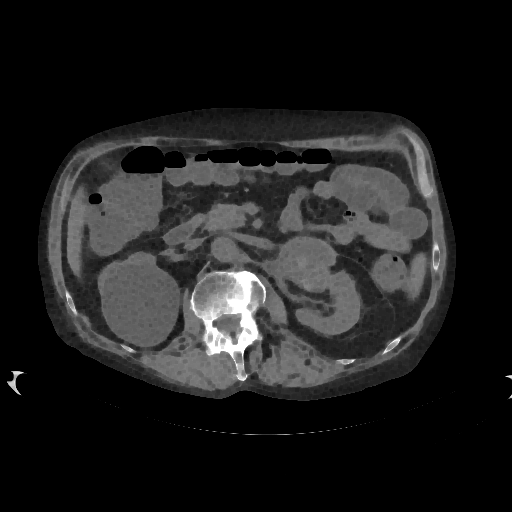Lesion: (274, 234, 337, 288)
